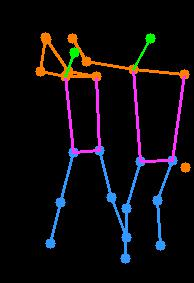normal: (109, 31, 194, 269)
